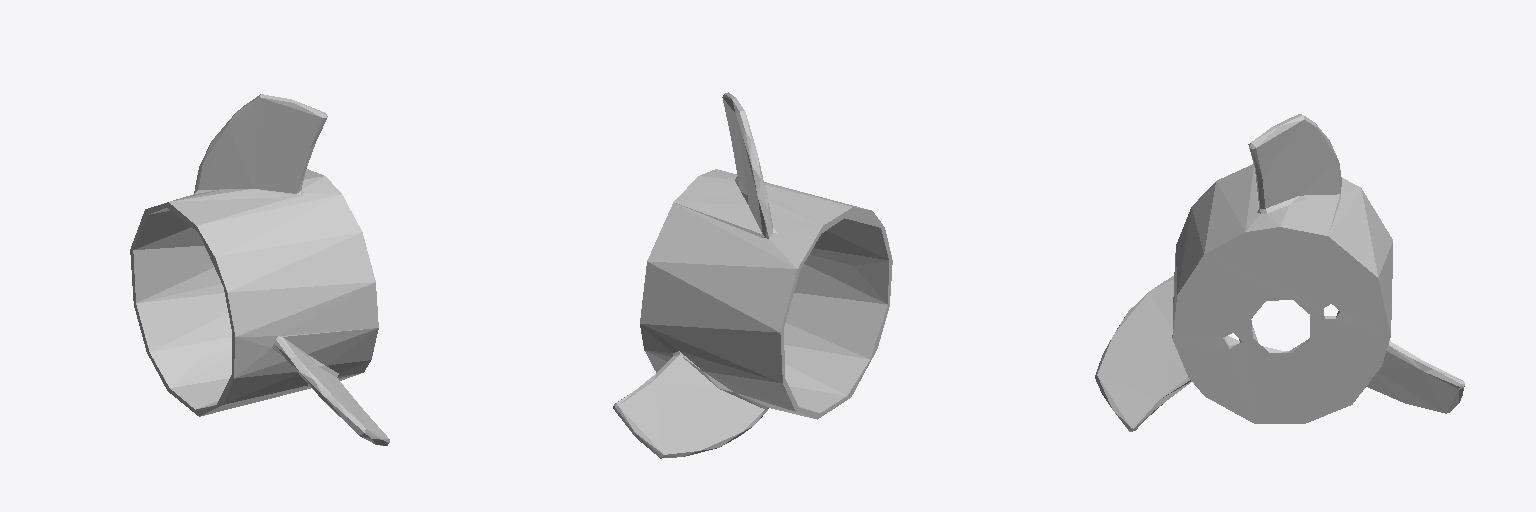
The model's file is Propeller.obj.
3 views of the same model, side by side, from view 1: azimuth 30°, elevation 25°; view 2: azimuth 150°, elevation 25°; view 3: azimuth 270°, elevation 25° (orthographic).
Parts seen in each view (by area): view 1: propeller_left_FORWARD_FRONT; view 2: propeller_left_FORWARD_FRONT; view 3: propeller_left_FORWARD_FRONT.
Part boxes in pixels (x1,y1,x2,y2): propeller_left_FORWARD_FRONT: (130, 94, 389, 445); propeller_left_FORWARD_FRONT: (613, 92, 892, 458); propeller_left_FORWARD_FRONT: (1095, 114, 1464, 431).
Bounding box in the file's own units: 0.0309 × 0.0605 × 0.0681.